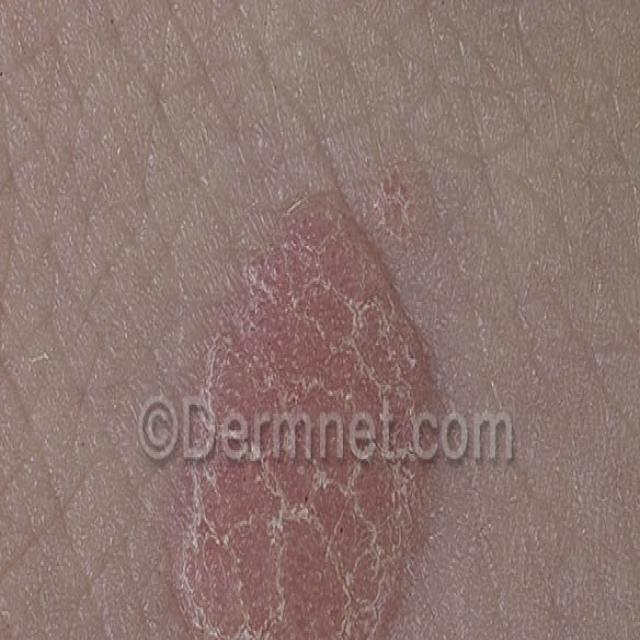Warts: (162, 172, 470, 640)
